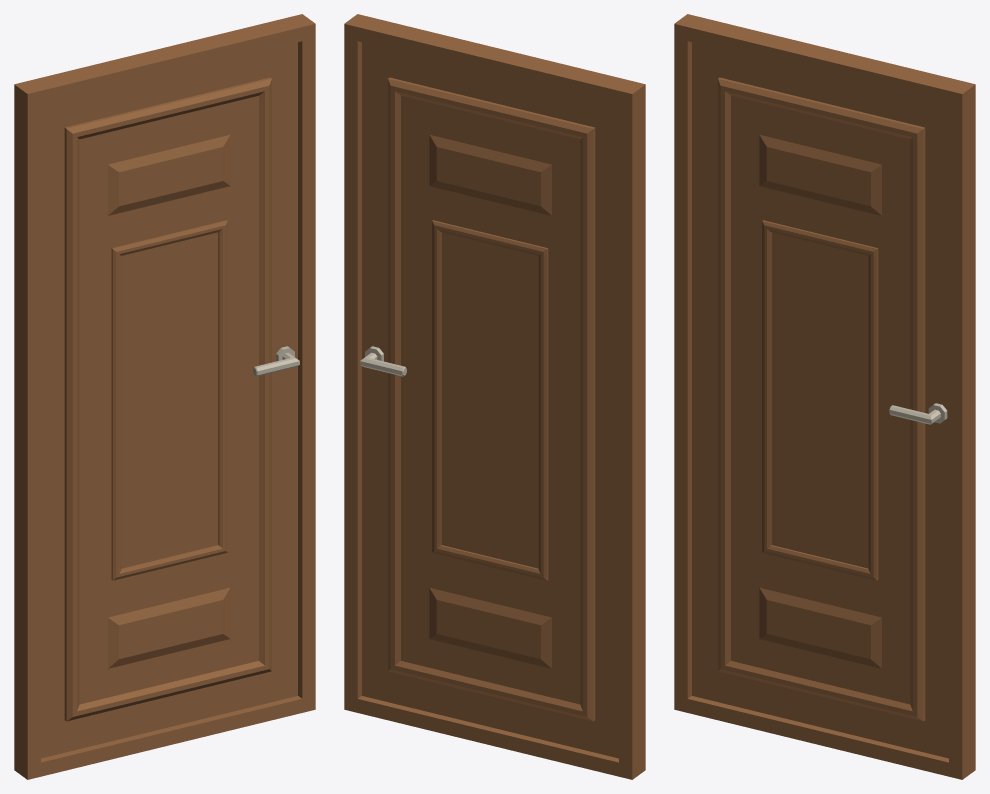
The model's file is Mesh_Door_C08.fbx.
3 renders of one model, left to right at view 1: azimuth 30°, elevation 25°; view 2: azimuth 150°, elevation 25°; view 3: azimuth 330°, elevation 25°, orthographic.
Parts seen in each view (by area): view 1: Mesh_Door_C08; view 2: Mesh_Door_C08; view 3: Mesh_Door_C08.
Part boxes in pixels (x1,y1,x2,y2): Mesh_Door_C08: (14, 14, 315, 779); Mesh_Door_C08: (344, 14, 645, 779); Mesh_Door_C08: (674, 14, 975, 779).
Size of the model in its own units: 0.9 by 2.05 by 0.1524.
